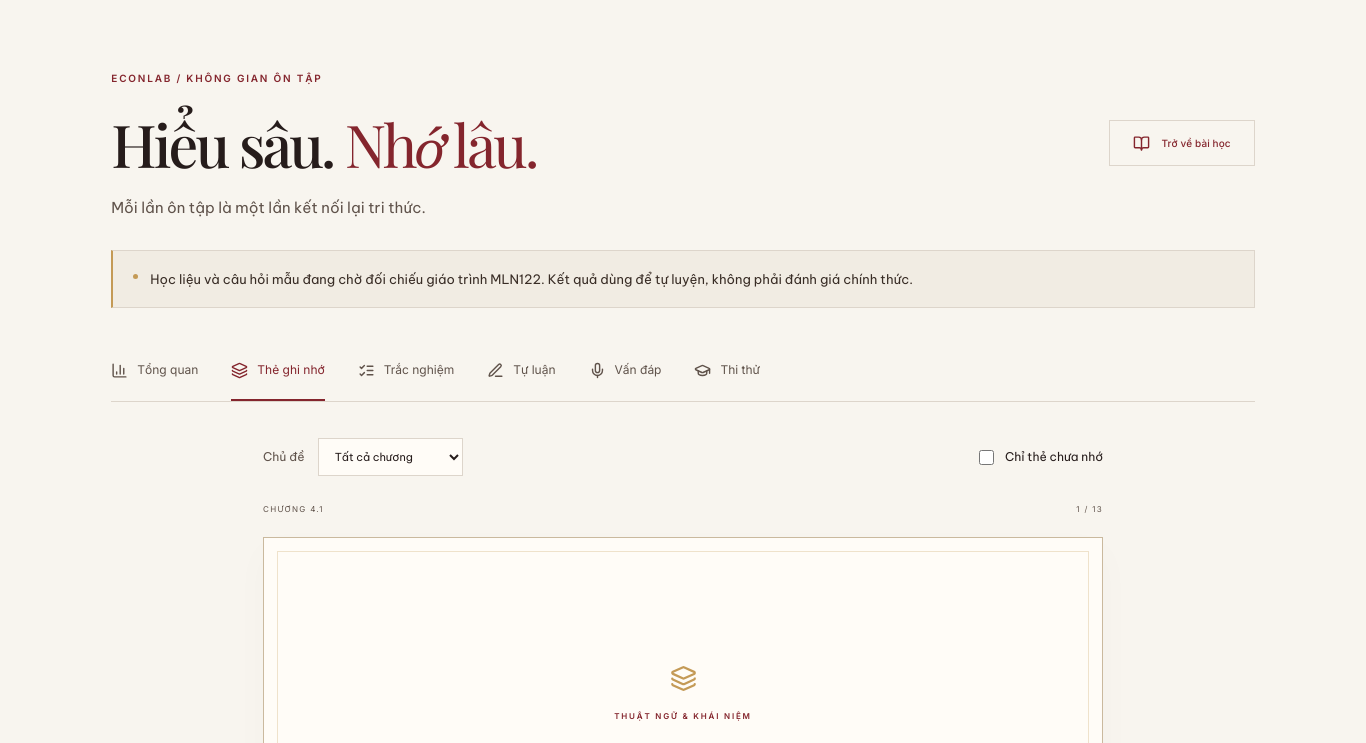
Revision workflows › shows an empty state after all cards in a filter are remembered
Select "Chương 4.1" in the dropdown at [390, 458], box left=318, top=438, right=463, bottom=476
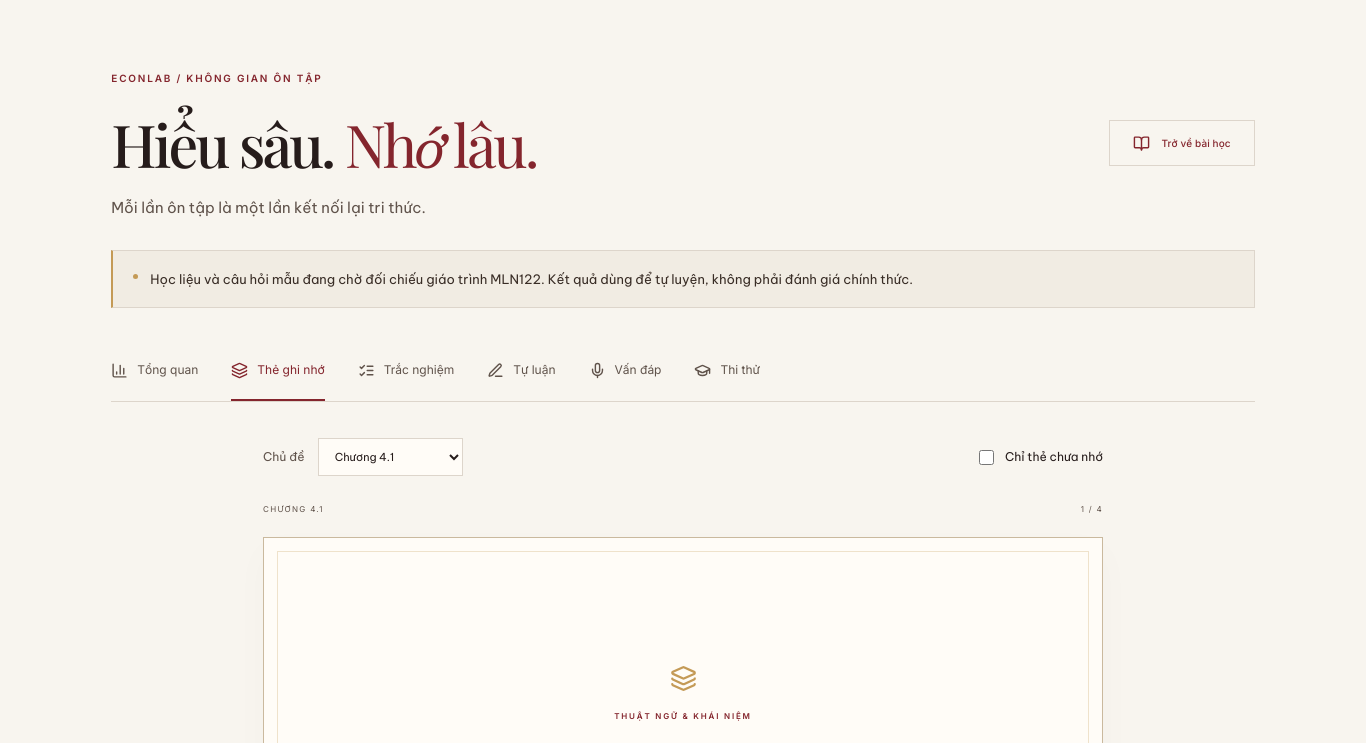
Click the checkbox labelled "Chỉ thẻ chưa nhớ" at [986, 458], box left=979, top=450, right=994, bottom=465
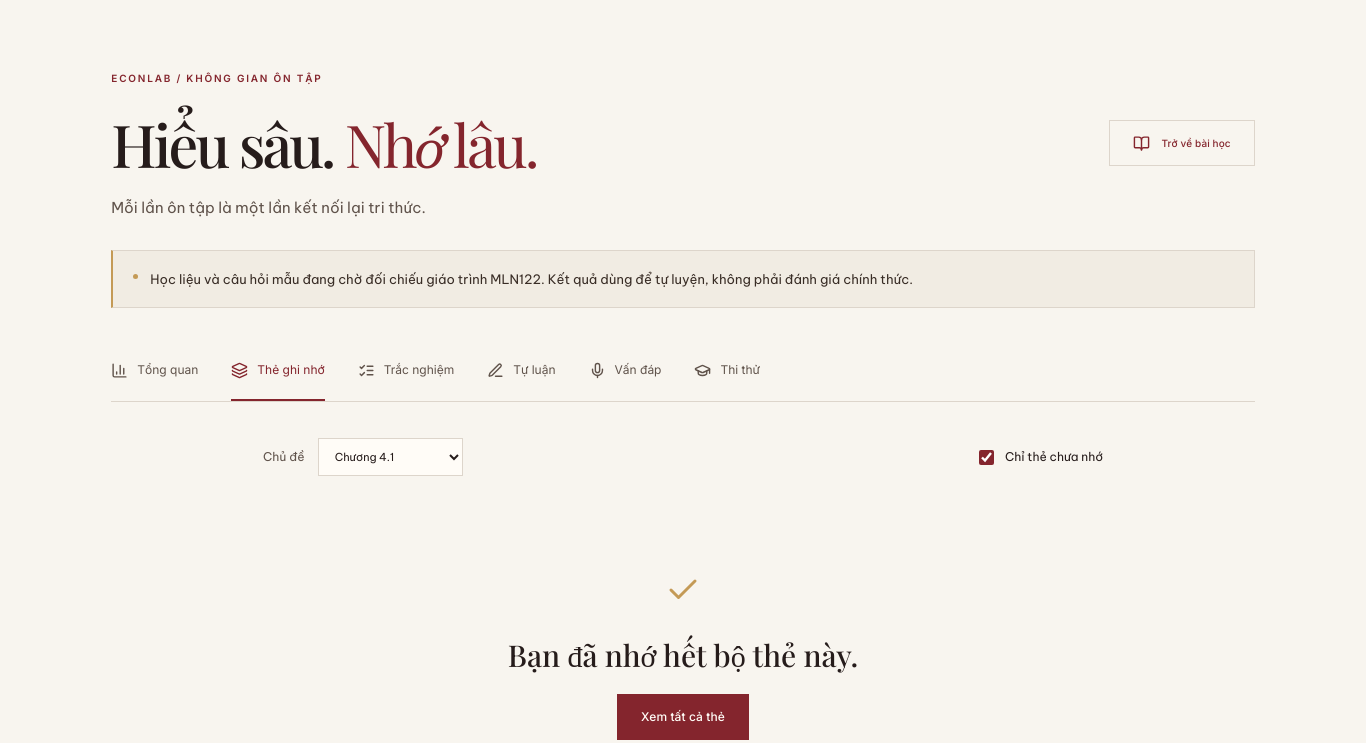
Result: the heading "Bạn đã nhớ hết bộ thẻ này." is shown at left=508, top=635, right=858, bottom=675
